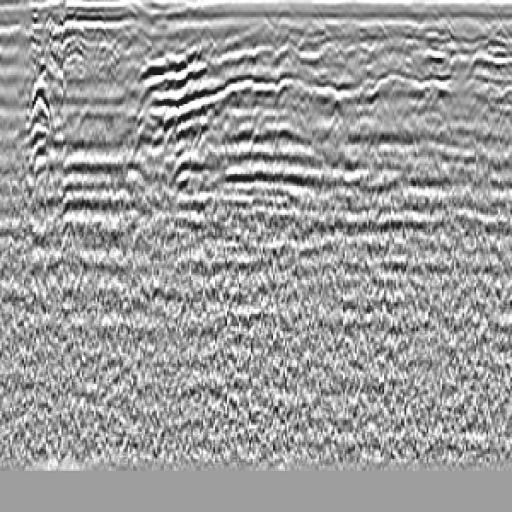metalic: (124, 37, 307, 231), (3, 37, 96, 282)
